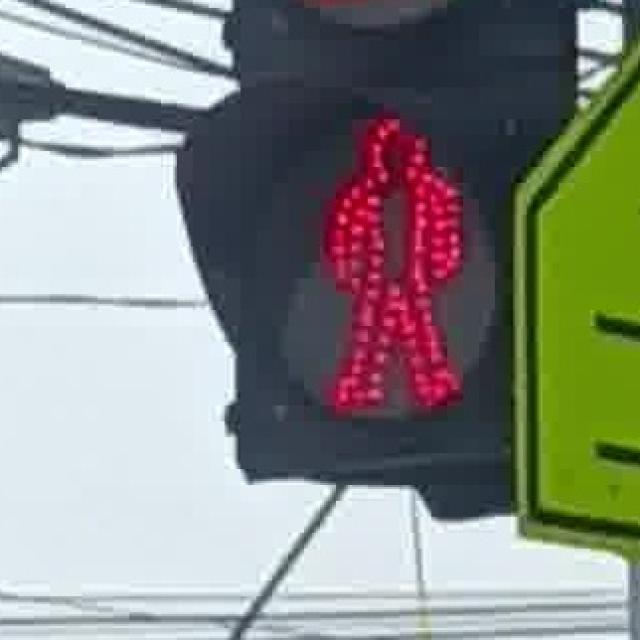red-crossing: (284, 88, 473, 438)
